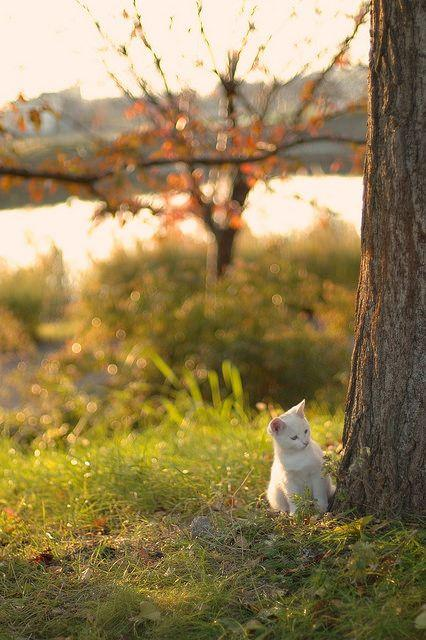kedo: (264, 400, 335, 517)
